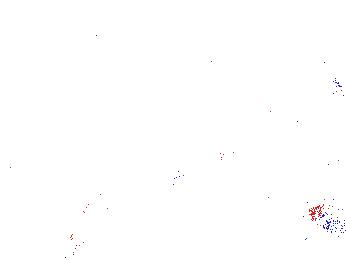X-ray fish: (308, 205, 341, 227), (1, 1, 44, 13)
glassfish: (152, 143, 245, 203), (65, 173, 123, 257)
